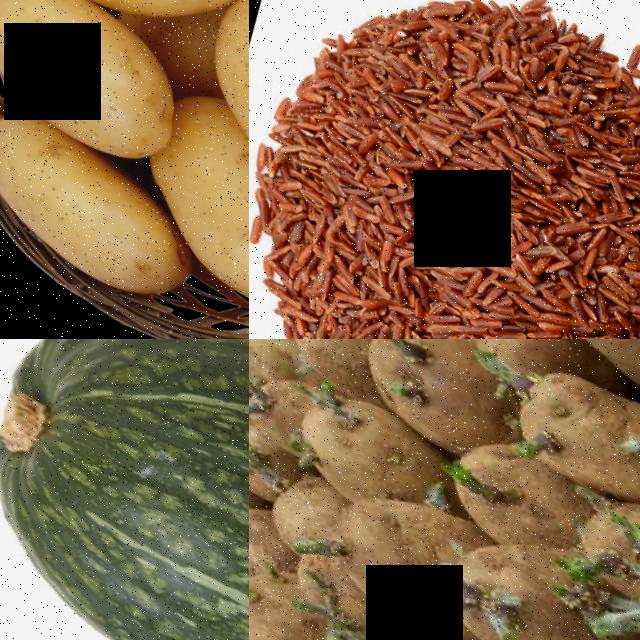potato: (0, 95, 198, 315), (101, 83, 249, 329), (0, 0, 203, 168), (295, 466, 490, 640), (419, 514, 609, 640), (275, 375, 443, 517), (336, 339, 514, 463), (166, 0, 249, 230), (4, 0, 249, 50), (311, 591, 497, 640)
pumpkin: (0, 339, 249, 640)
red rice: (249, 0, 640, 339)
